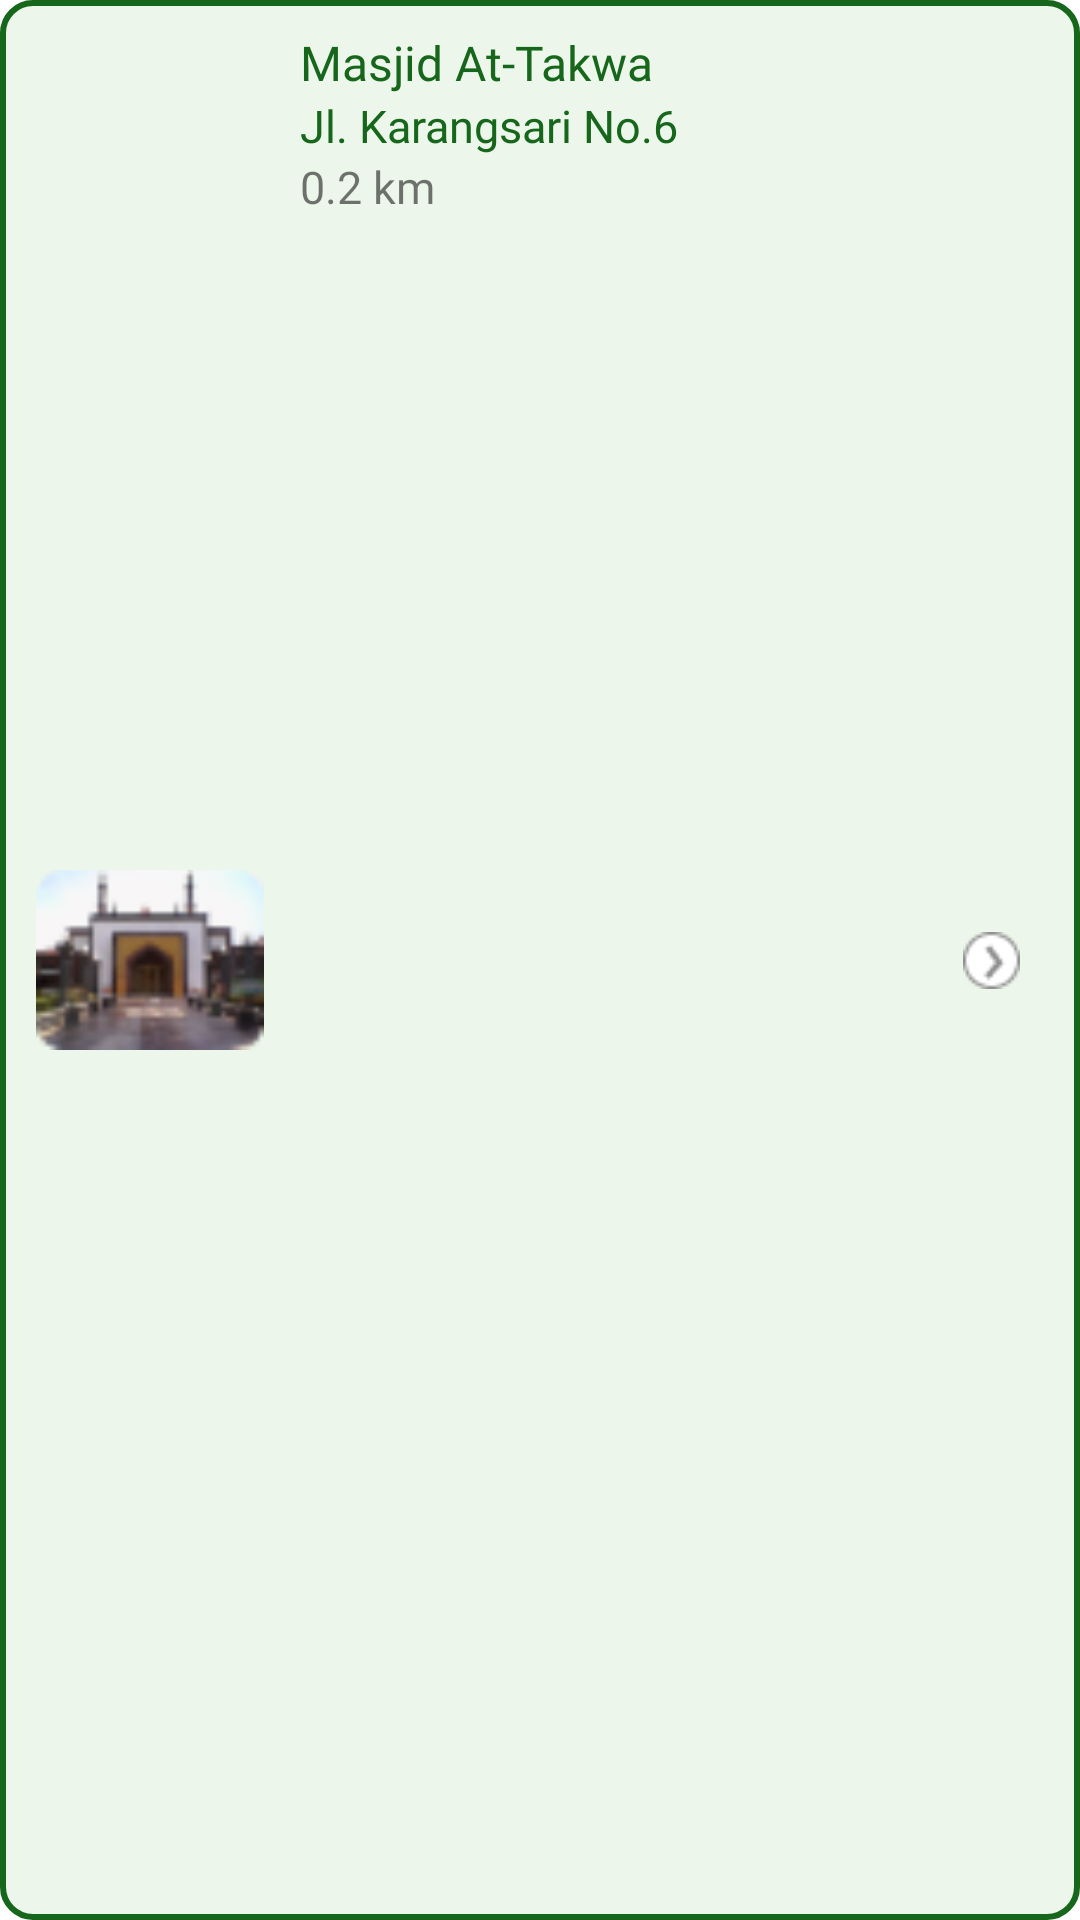

Where to tap for icons on this 1080*1920 app screen, as [x,y]:
circle arrow: [991,960]
masjid: [150,960]
